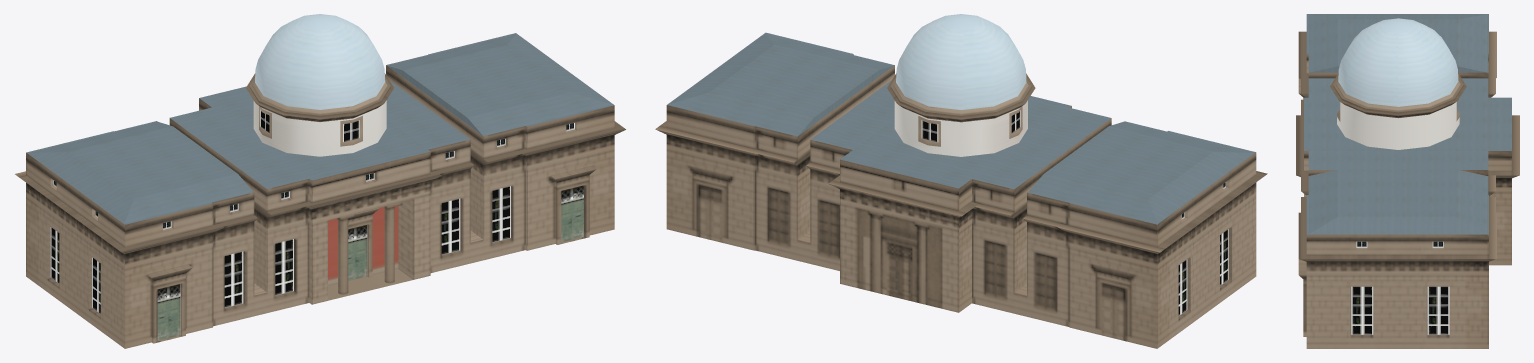
File: museum.gltf
3 renders of one model, left to right at view 1: azimuth 30°, elevation 25°; view 2: azimuth 150°, elevation 25°; view 3: azimuth 270°, elevation 25°, orthographic. The views are drawn at different scales.
Parts seen in each view (by area): view 1: Science lvl 3_genericEU_0; view 2: Science lvl 3_genericEU_0; view 3: Science lvl 3_genericEU_0.
Boxes of the visible parts, box(x1,y1,x2,y2) form: Science lvl 3_genericEU_0: box(15, 14, 625, 348); Science lvl 3_genericEU_0: box(655, 14, 1267, 348); Science lvl 3_genericEU_0: box(1296, 14, 1519, 348).
Bounding box in the file's own units: 0.00642 × 0.00283 × 0.00267.
Materials: 1 (1 with a texture image).
